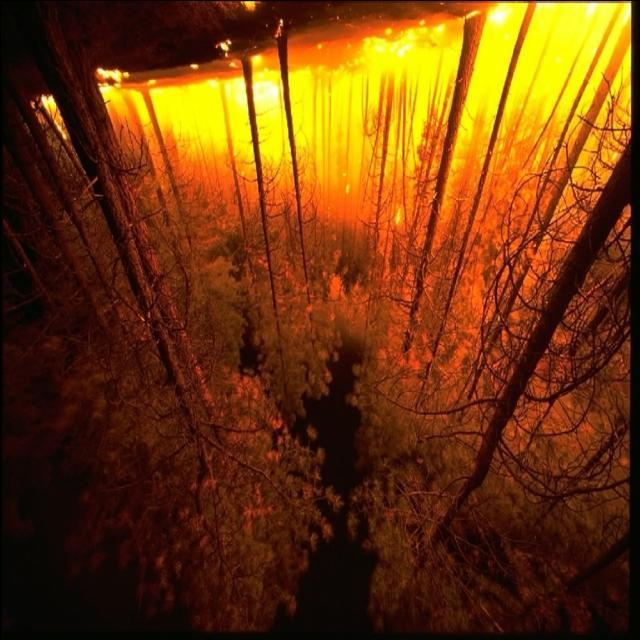Fire: (95, 0, 634, 189)
